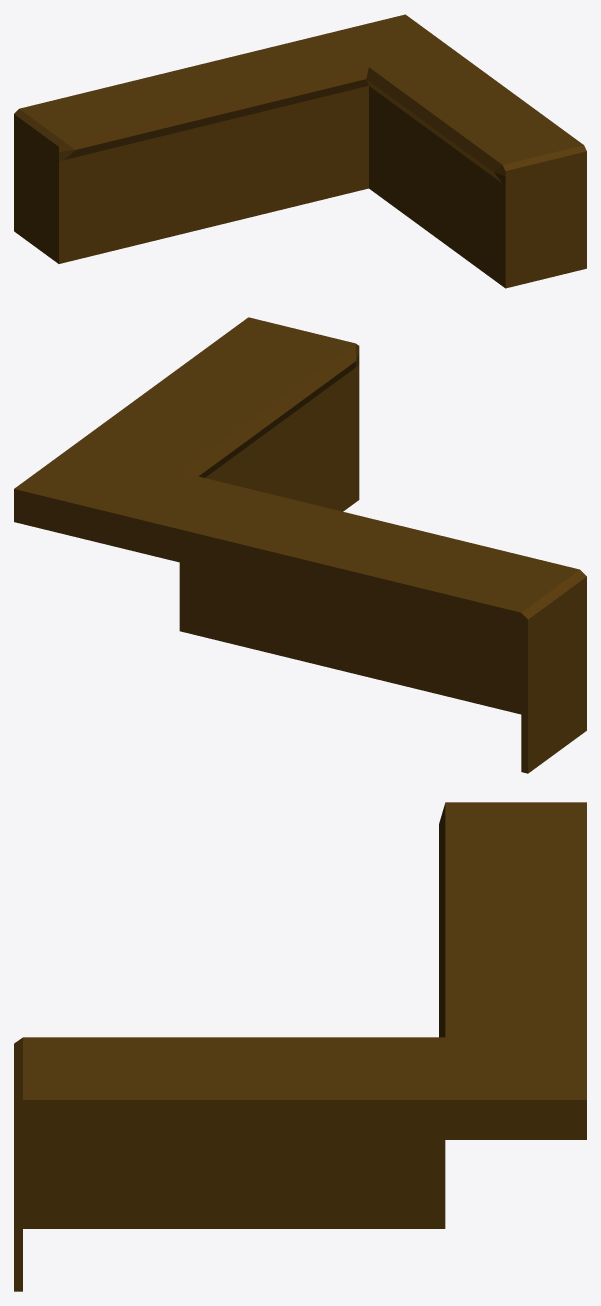
File: Kitchen counter.fbx
The picture shows the model from 3 angles, top to bottom: view 1: azimuth 30°, elevation 25°; view 2: azimuth 150°, elevation 25°; view 3: azimuth 270°, elevation 25°; orthographic projection. The views are drawn at different scales.
Parts seen in each view (by area): view 1: Kitchen counter; view 2: Kitchen counter; view 3: Kitchen counter.
Boxes of the visible parts, x1,y1,x2,y2 form: Kitchen counter: [14, 14, 586, 288]; Kitchen counter: [14, 317, 586, 773]; Kitchen counter: [14, 802, 586, 1291].
Bounding box in the file's own units: 1008 × 299 × 809.
